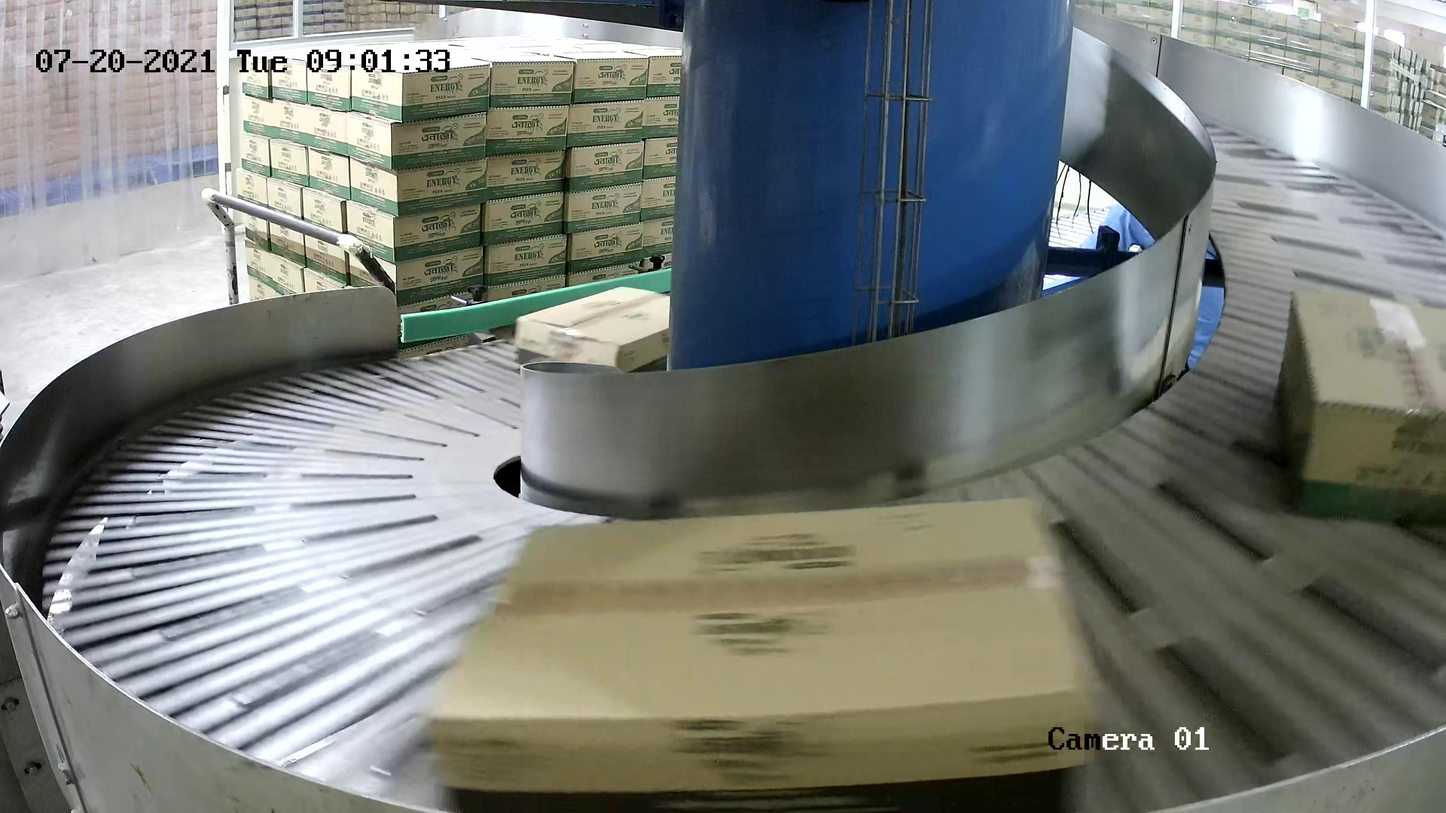Box: (416, 490, 1096, 813), (1269, 281, 1446, 528), (514, 285, 698, 388)
